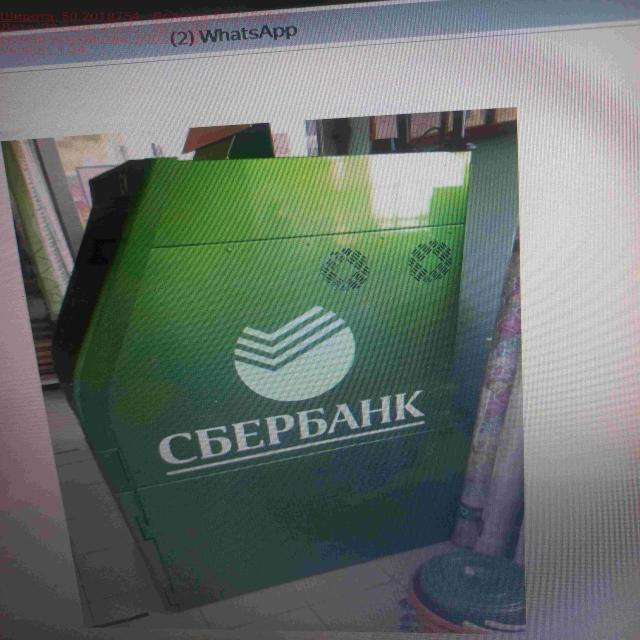bank: (50, 155, 489, 618)
